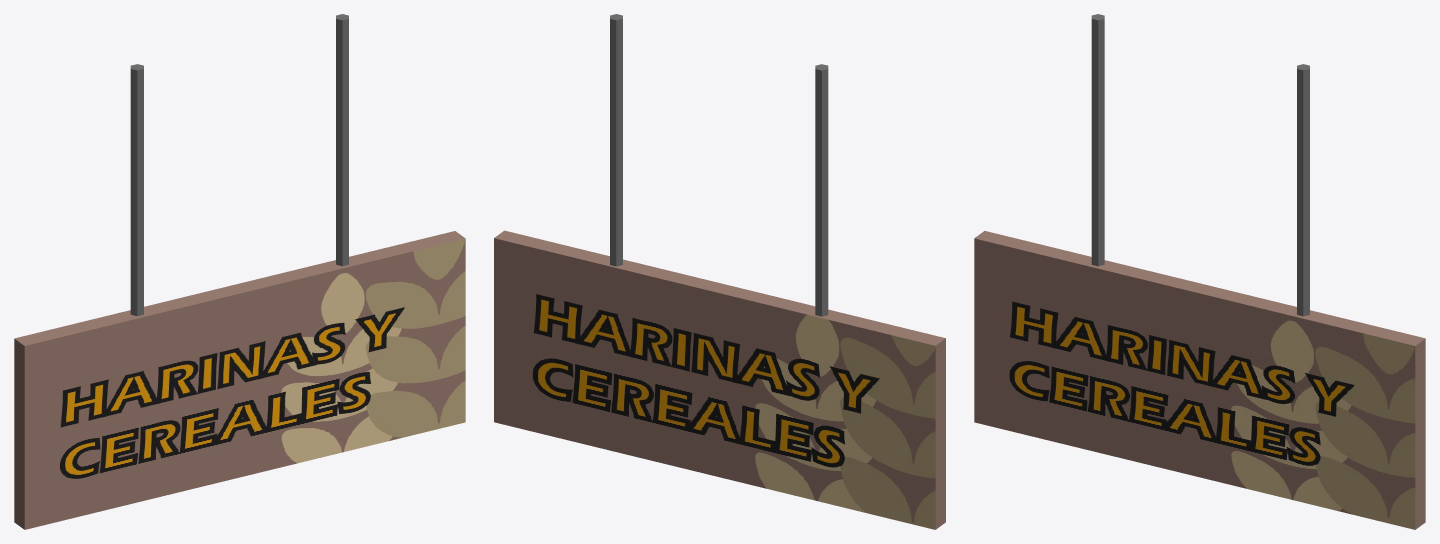
File: cartel_01.fbx
3 views of the same model, side by side, from view 1: azimuth 30°, elevation 25°; view 2: azimuth 150°, elevation 25°; view 3: azimuth 330°, elevation 25° (orthographic).
Parts seen in each view (by area): view 1: Cartel HARINAS; view 2: Cartel HARINAS; view 3: Cartel HARINAS.
Boxes of the visible parts, <box> form: Cartel HARINAS: <box>14,14,465,529</box>; Cartel HARINAS: <box>494,14,945,529</box>; Cartel HARINAS: <box>974,14,1425,529</box>.
Size of the model in its own units: 173 by 161 by 7.08.
Materials: 3 (1 with a texture image).
